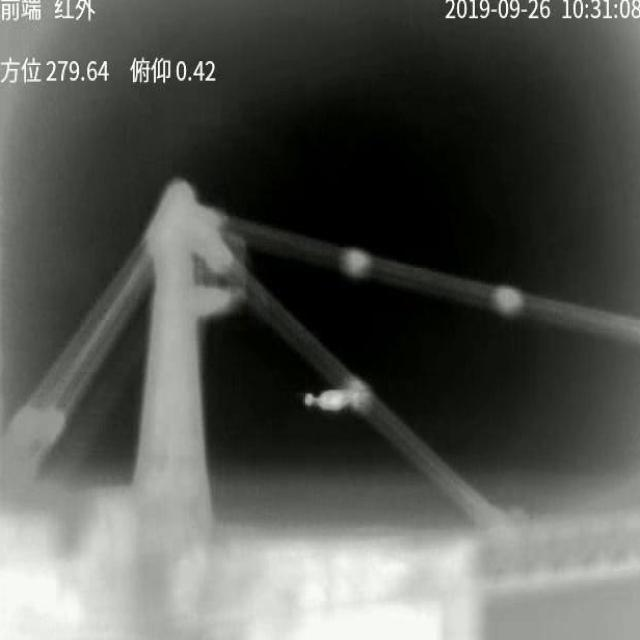drone: (305, 389, 363, 411)
